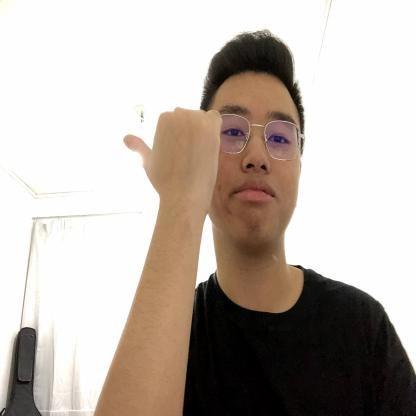right: (123, 108, 227, 207)
